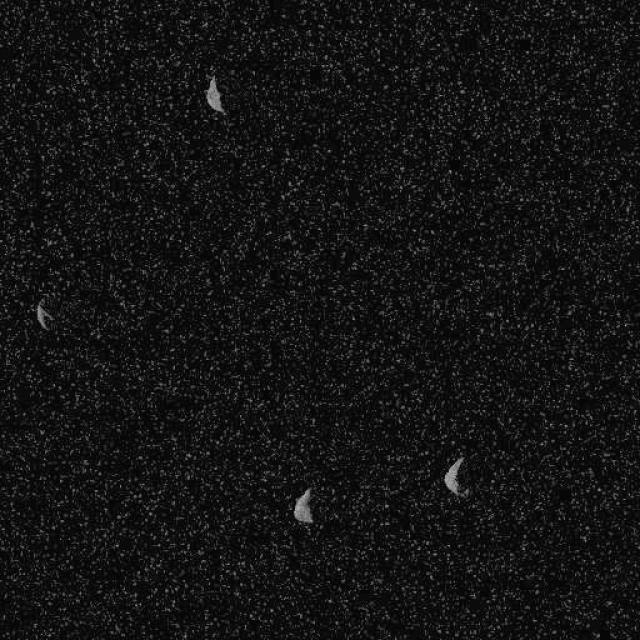D2: (442, 455, 472, 499), (291, 485, 314, 524), (204, 74, 225, 114), (35, 299, 55, 331)
